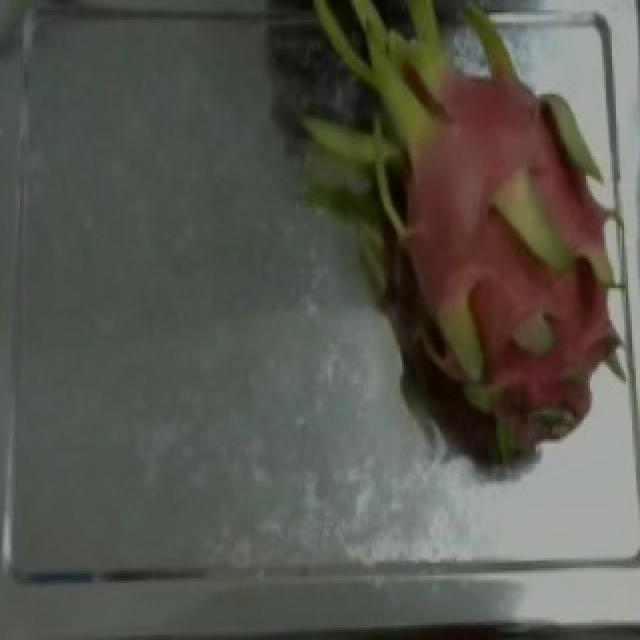fruit: (262, 0, 640, 432)
